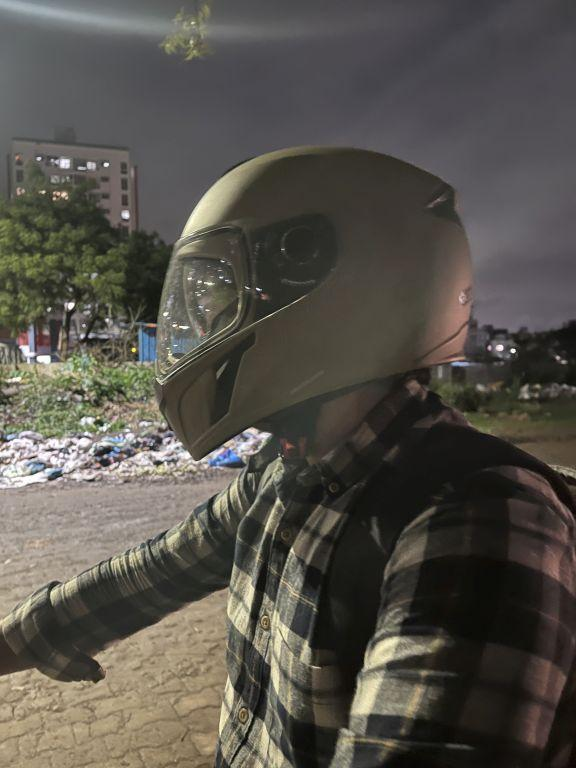helmet: (142, 132, 486, 465)
